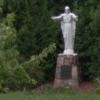Statue: (42, 4, 80, 64)
